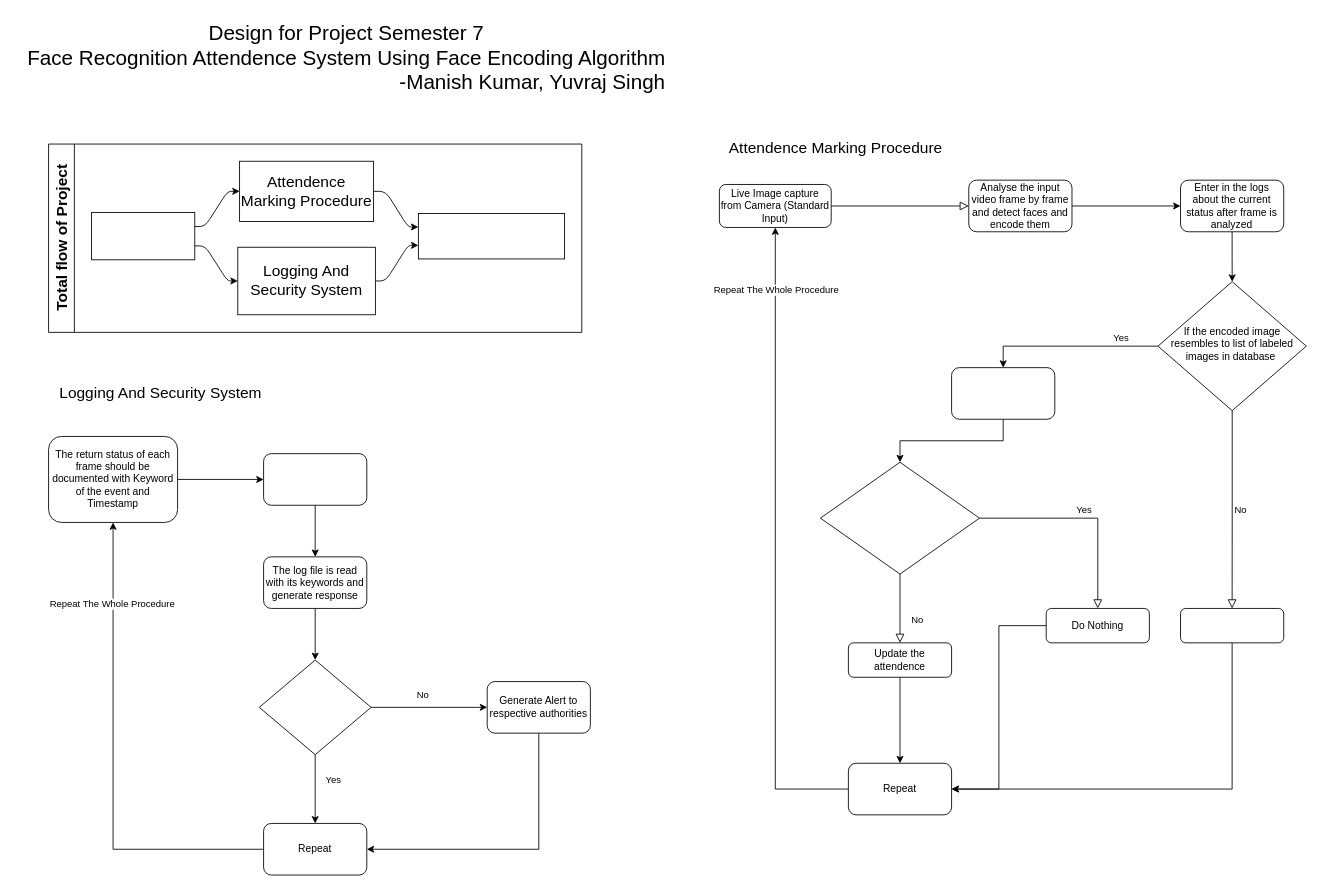
Image size: 1321x890. Some labels were removed from this diagram. The centre of each missing label's shape, as x and y in pixels:
Alert the respective authorities: (1232,625)
Check if the attendence is already marked: (900,517)
Encrypt the details and send call Attendence API: (1003,393)
End: (491,236)
If valid user: (314,707)
Start: (143,236)
The log file is updated in real time: (315,479)
